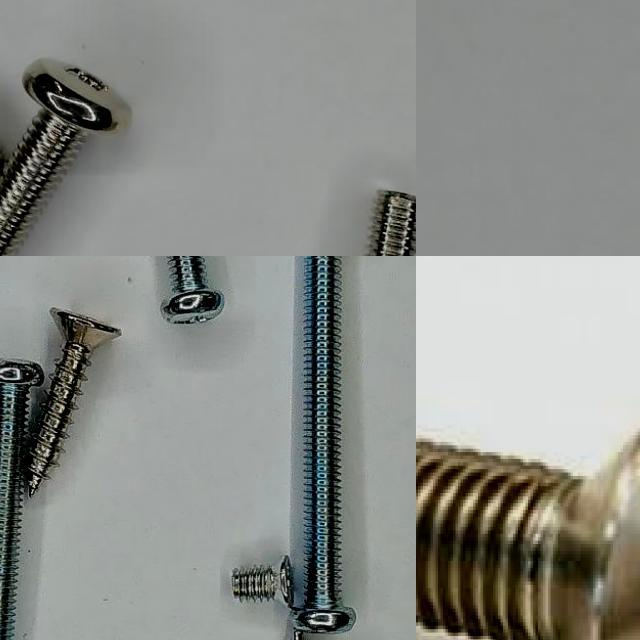Screw: (416, 425, 640, 640), (0, 58, 129, 256), (291, 256, 354, 633), (27, 307, 121, 495), (0, 359, 43, 640), (161, 256, 223, 323), (368, 192, 416, 256), (232, 557, 293, 606)
